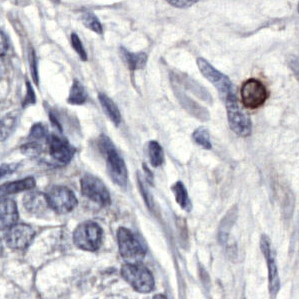Lymphocyte: (239, 78, 270, 111)
